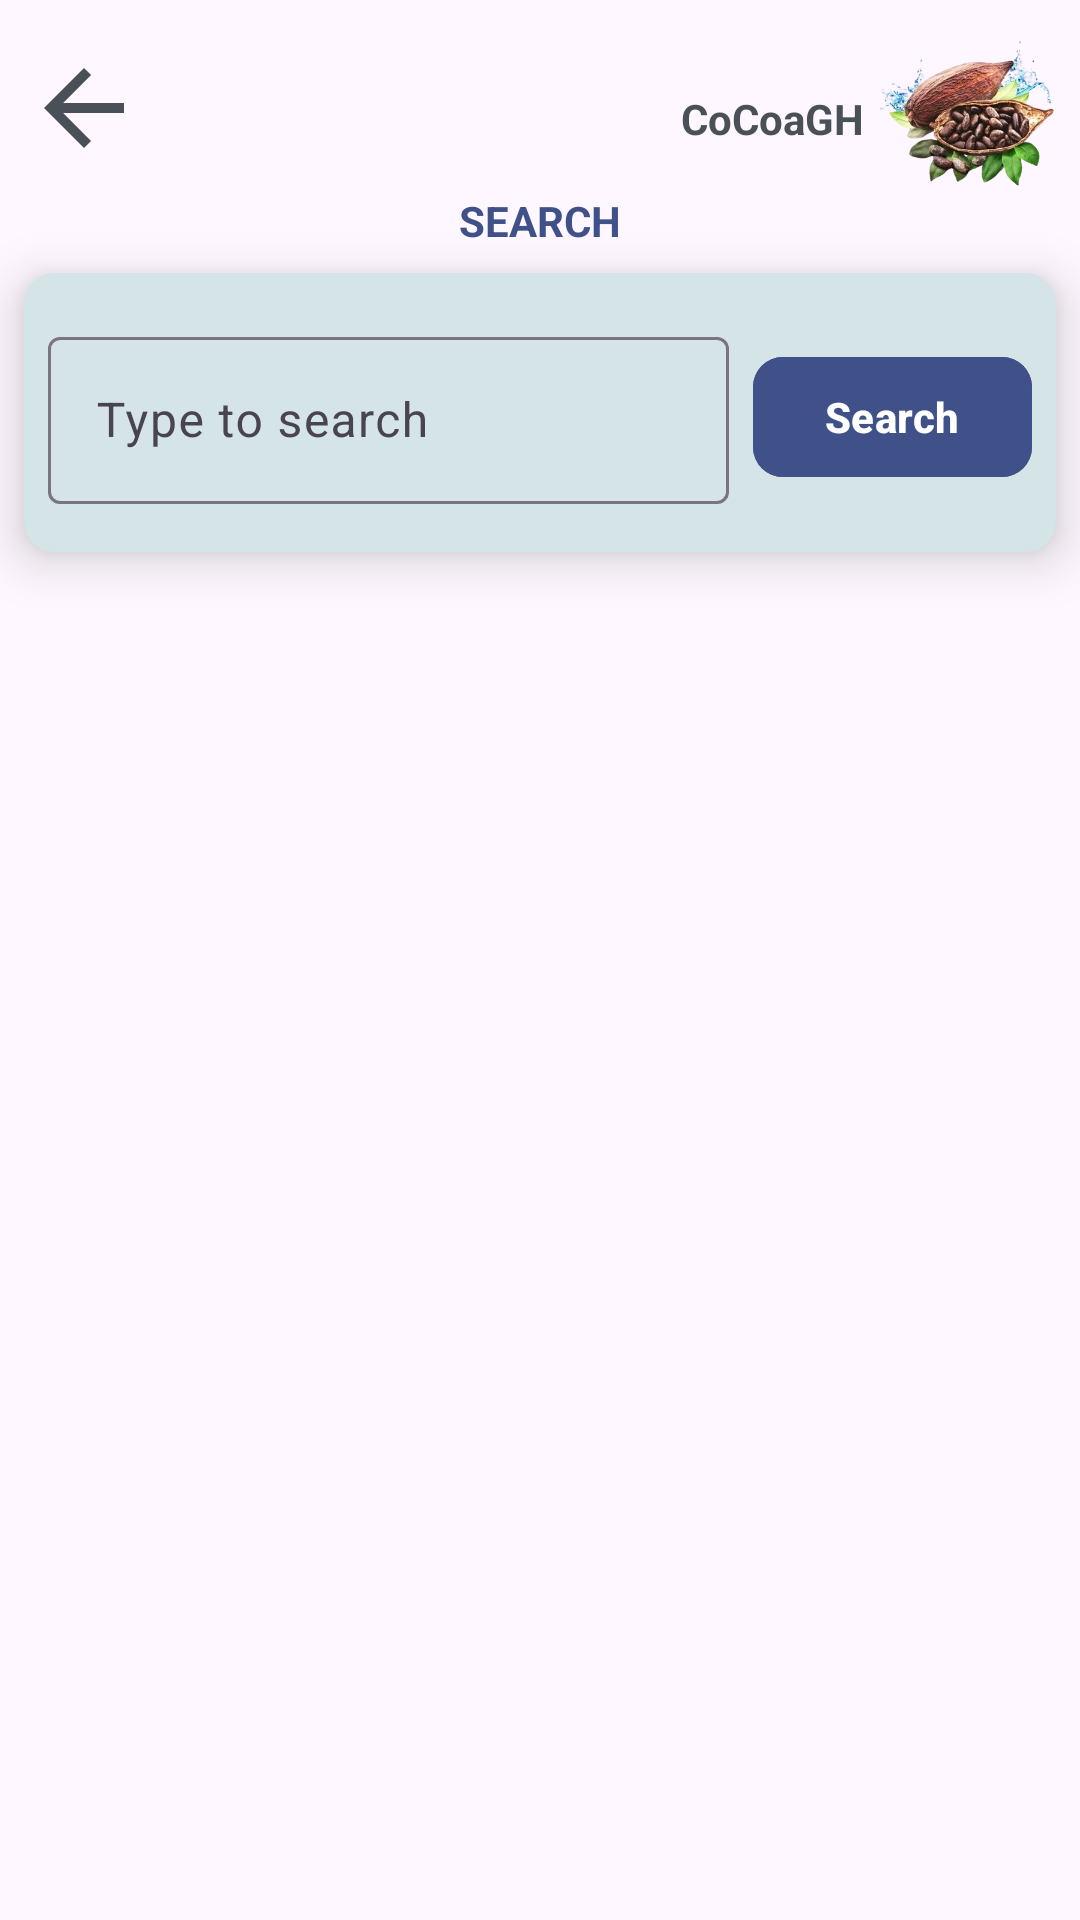

Screen size 1080×1920. Icon name, then its center in pixels as (x=x, y=y):
arrow back: (x=84, y=108)
